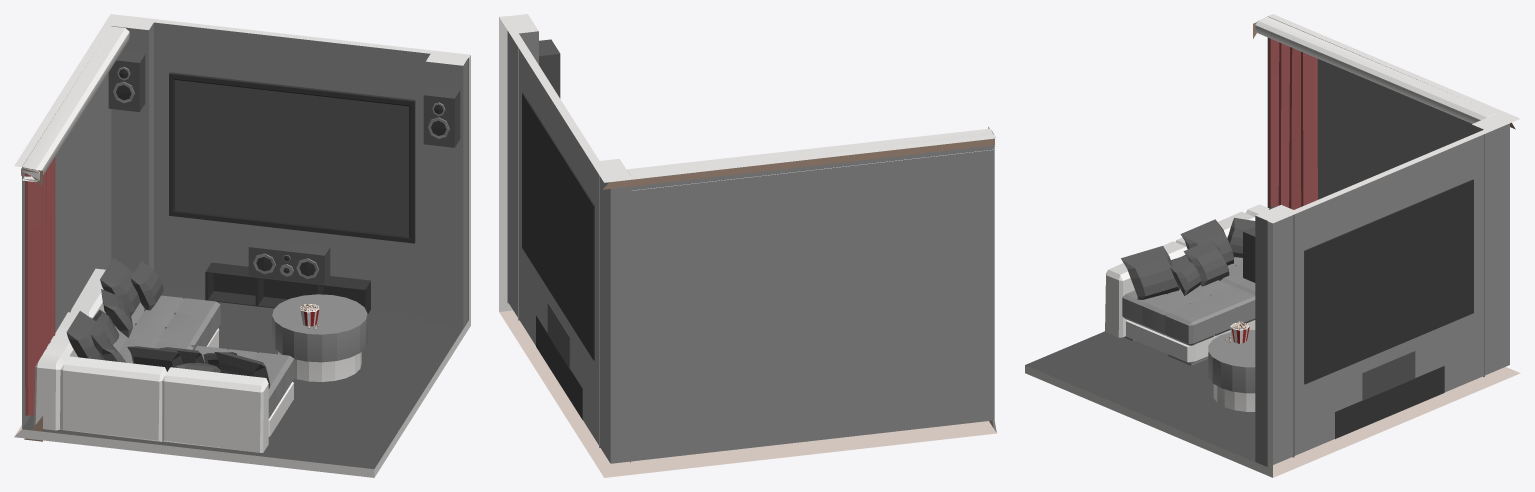
File: Playbook_home.fbx
3 renders of one model, left to right at view 1: azimuth 30°, elevation 25°; view 2: azimuth 150°, elevation 25°; view 3: azimuth 270°, elevation 25°, orthographic. The views are drawn at different scales.
Visible parts, largest first — view 1: Object_22.002; view 2: Object_22.002; view 3: Object_22.002.
Boxes of the visible parts, <box> form: Object_22.002: <box>14,14,470,477</box>; Object_22.002: <box>499,14,996,477</box>; Object_22.002: <box>1025,14,1520,477</box>.
Size of the model in its own units: 1166 by 664 by 1166.
